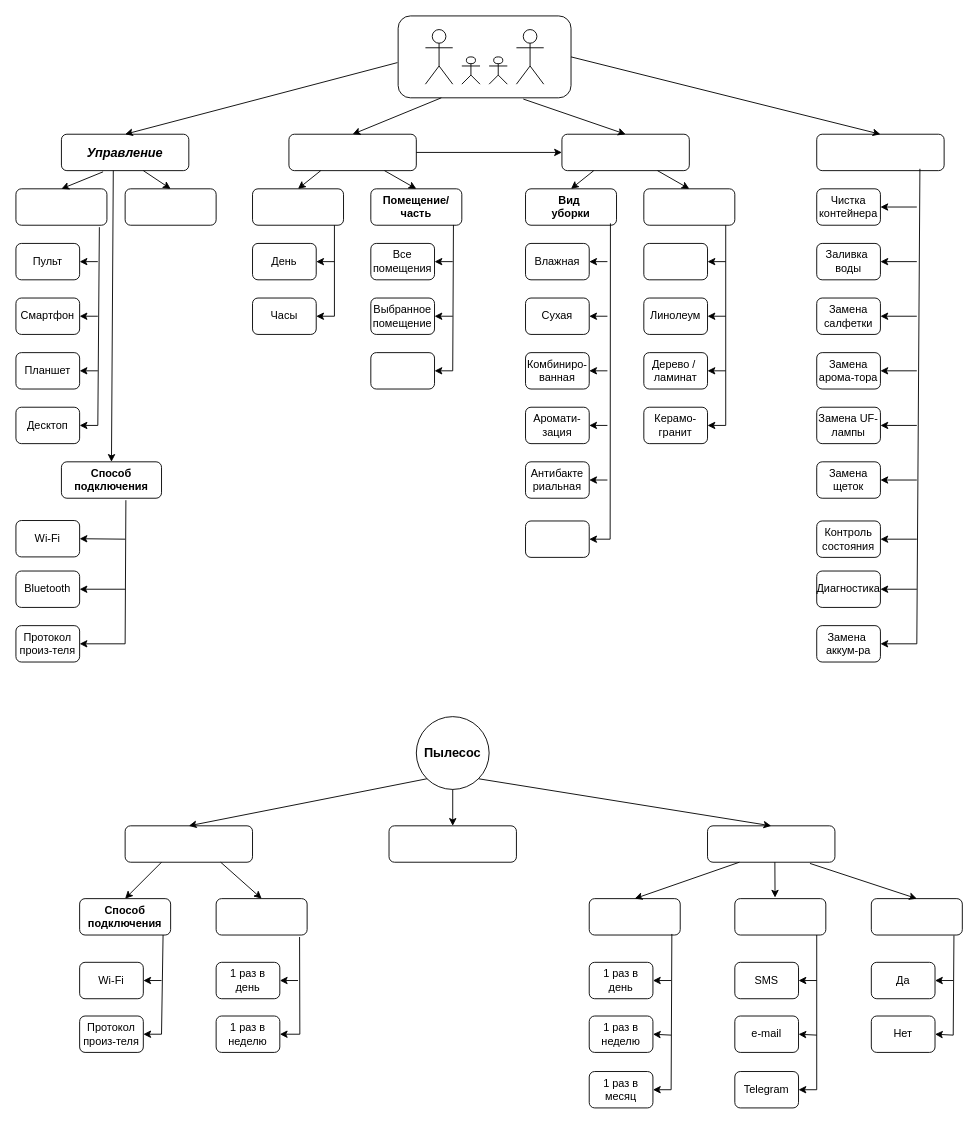
This 978x1124 diagram has some shape labels left out. The box of each missing label's shape, as (x1, y1, x2, y2) in pixels:
Авто (по заданным параметрам): (124, 188, 216, 225)
Карта: (388, 825, 516, 862)
Ковровое: (643, 243, 708, 280)
Настройки: (288, 133, 416, 171)
Обновление: (124, 825, 253, 862)
Обслуживание: (816, 133, 944, 171)
Отчет пользователю: (734, 898, 826, 935)
Отчет производителю: (870, 898, 962, 935)
Период: (588, 898, 680, 935)
Период (запрос обновления): (215, 898, 307, 935)
Период уборки: (252, 188, 344, 225)
Ручное: (15, 188, 107, 225)
Самодиагностика: (707, 825, 835, 862)
Тип покрытия: (643, 188, 735, 225)
Уборка: (561, 133, 689, 171)
Ультра-фиолет: (525, 520, 589, 557)
Часть помещения: (370, 352, 435, 389)
